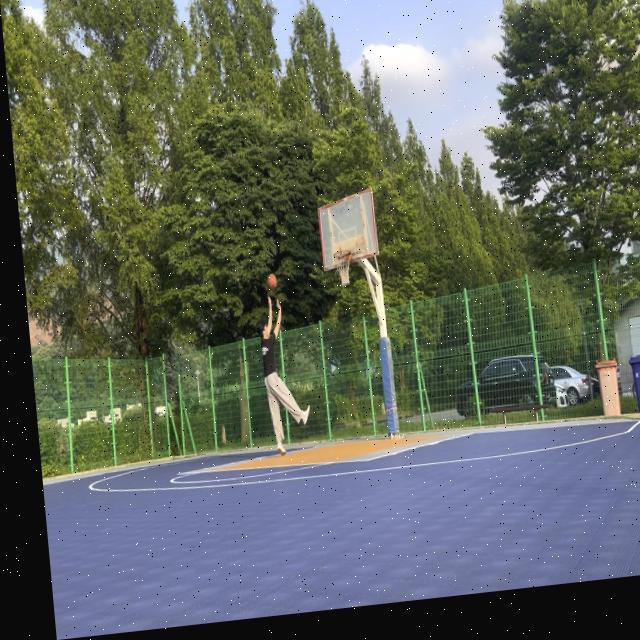basketball: (266, 273, 278, 292)
hoop: (333, 249, 354, 288)
